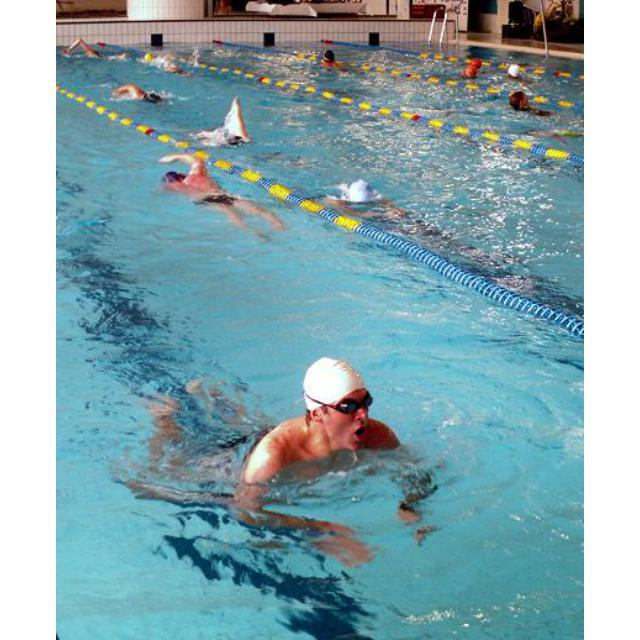human: (202, 351, 434, 565), (159, 149, 273, 249), (195, 93, 244, 148), (108, 79, 162, 103), (509, 89, 543, 116), (324, 49, 341, 76)
